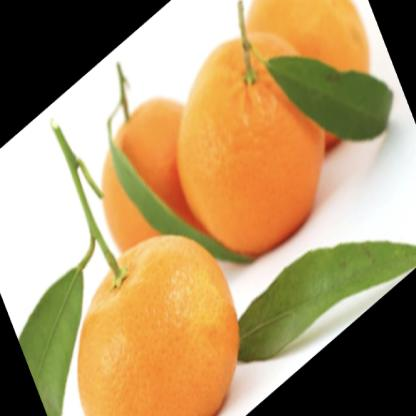fresh: (77, 1, 370, 416)
